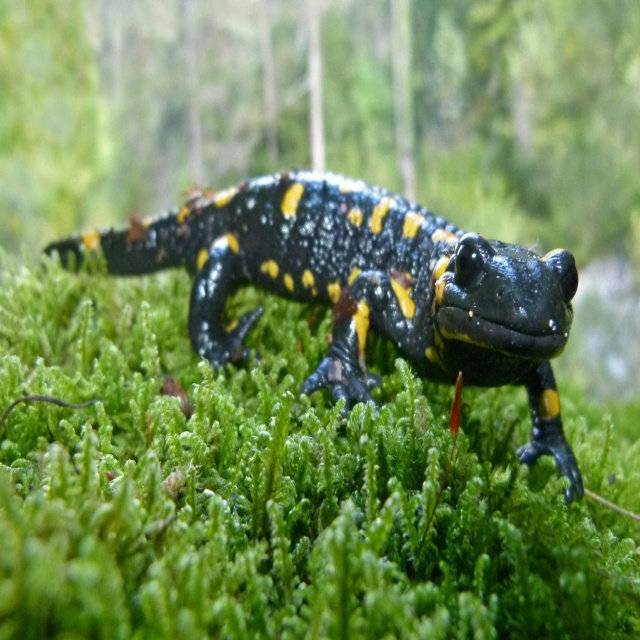Lizard: (40, 169, 584, 505)
